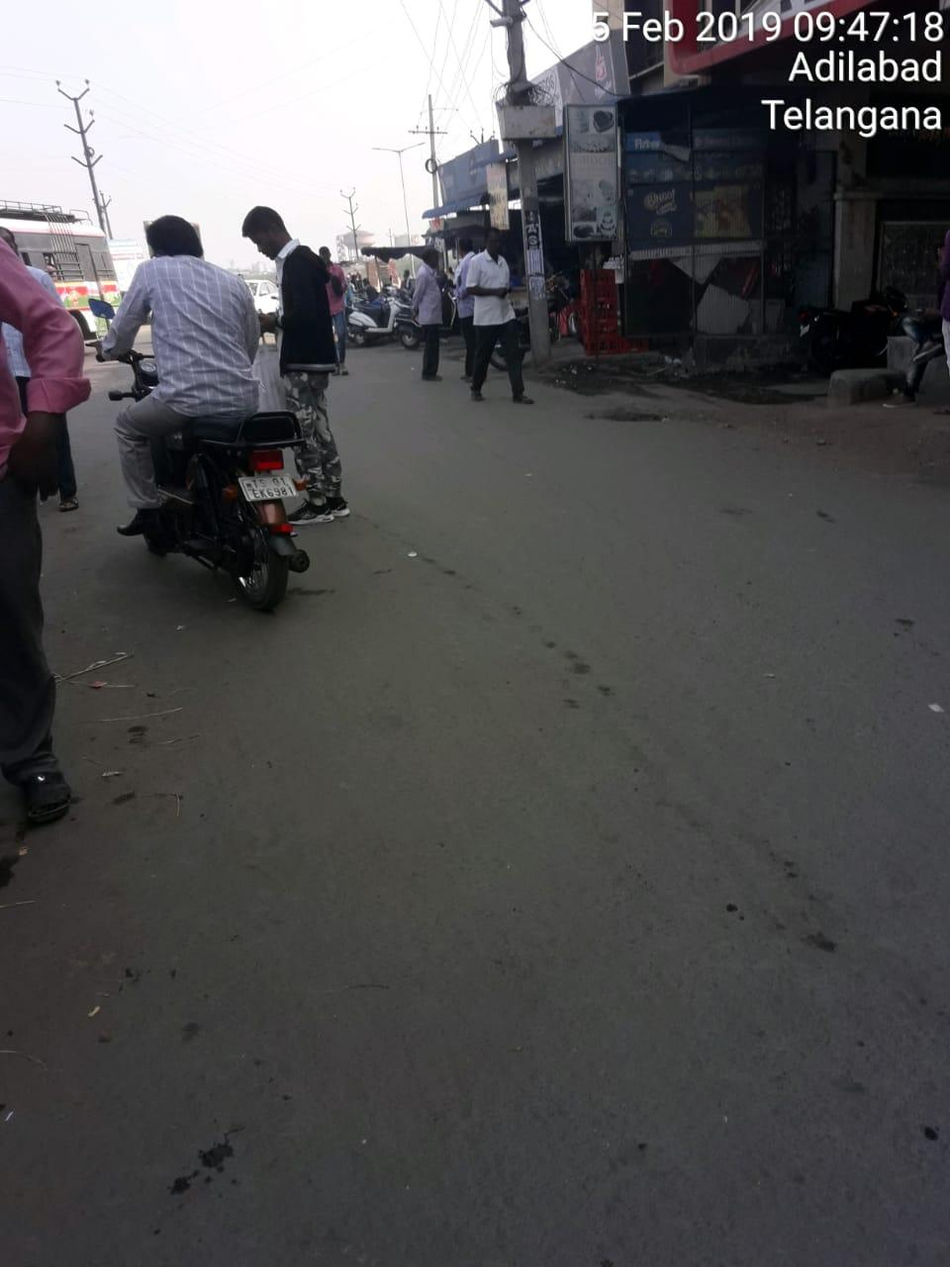plate: (224, 465, 302, 505)
